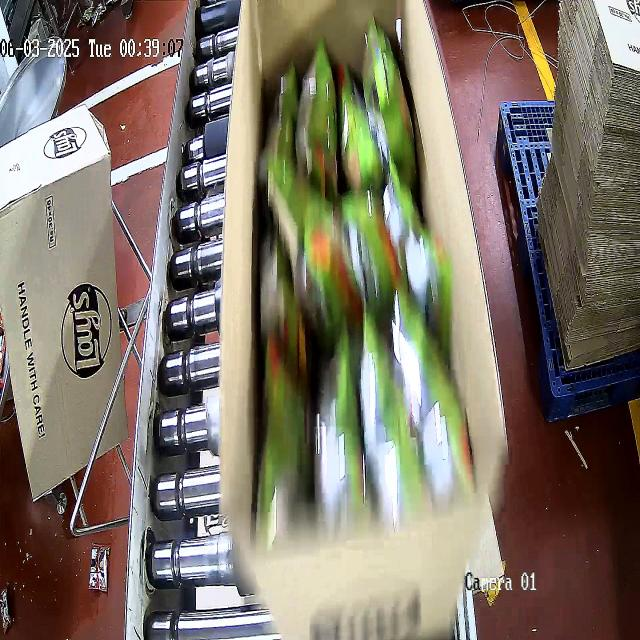YOGURT_HERB: (263, 64, 471, 536)
